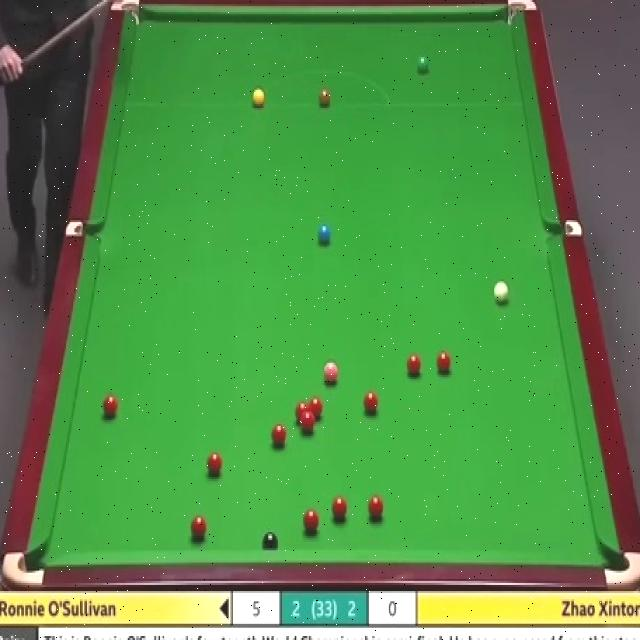black-ball: (262, 532, 278, 551)
blue-ball: (316, 220, 331, 246)
brown-ball: (317, 86, 331, 109)
green-ball: (414, 55, 430, 75)
pink-ball: (323, 357, 339, 385)
red-ball: (102, 393, 120, 421), (406, 352, 422, 381), (206, 450, 222, 478), (190, 514, 207, 540), (368, 494, 384, 521), (332, 496, 348, 522), (304, 508, 319, 534), (363, 390, 378, 416), (436, 352, 451, 377), (309, 397, 323, 422), (272, 423, 286, 447), (301, 414, 315, 434), (296, 401, 308, 422)
white-ball: (492, 279, 510, 306)
yellow-ball: (251, 86, 265, 107)
